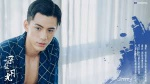male: (16, 1, 65, 59)
